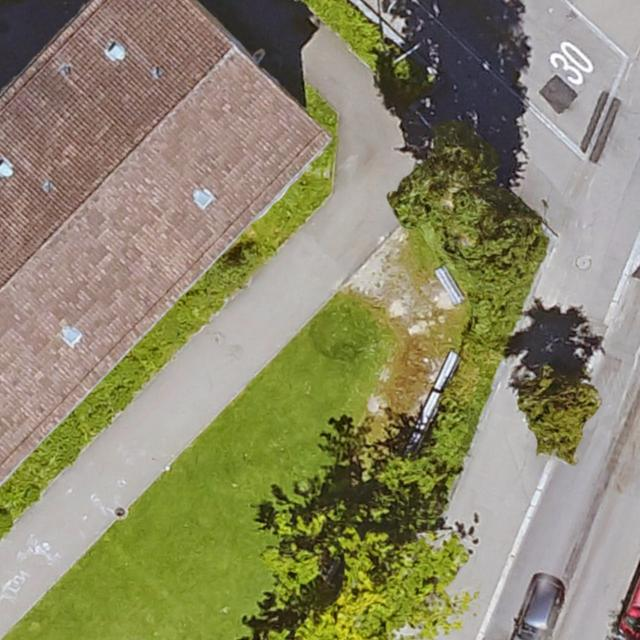tree: (266, 499, 455, 640), (394, 123, 500, 260), (516, 363, 599, 458), (460, 214, 541, 297), (375, 451, 444, 510)
